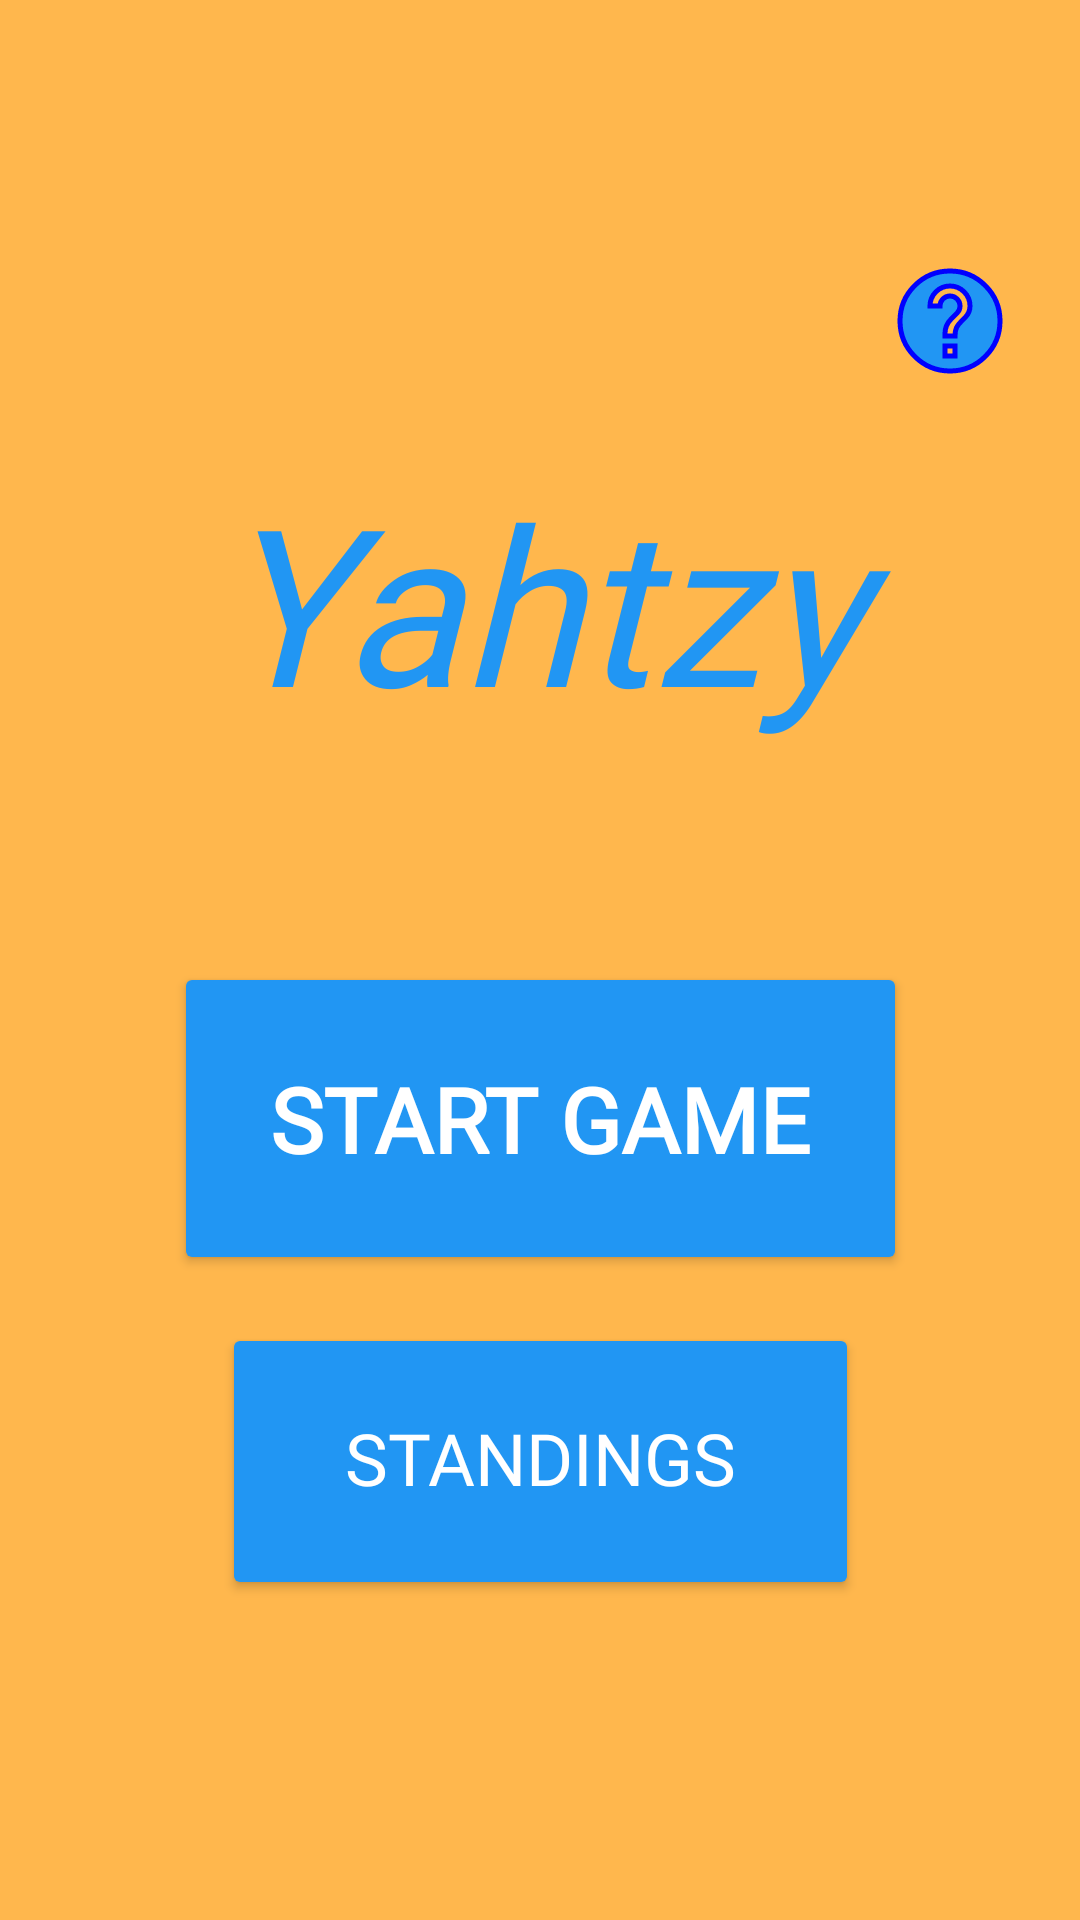

Screen size 1080px×1920px. Icon name, then its center in pixels as point (x, y):
help: point (950, 321)
